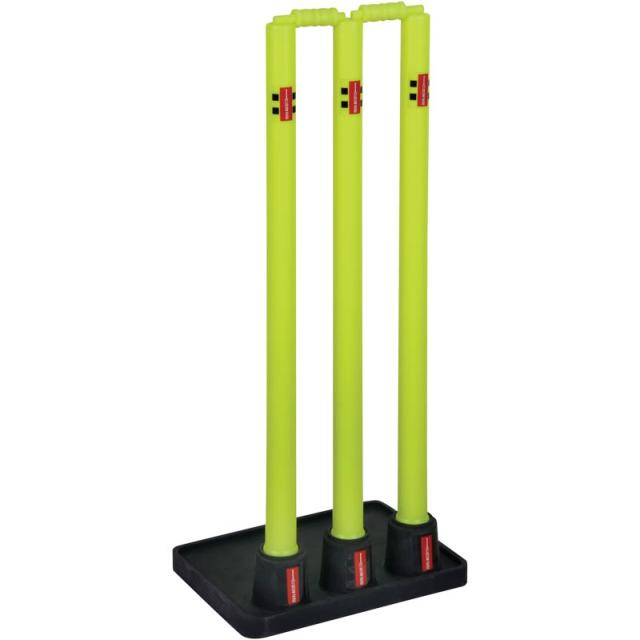stump: (260, 2, 428, 610)
